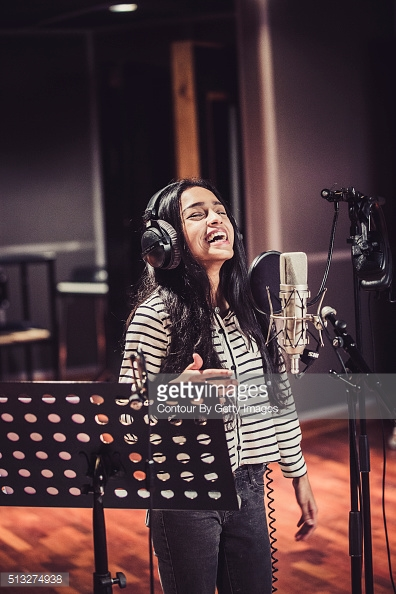em pe: (109, 163, 327, 594)
